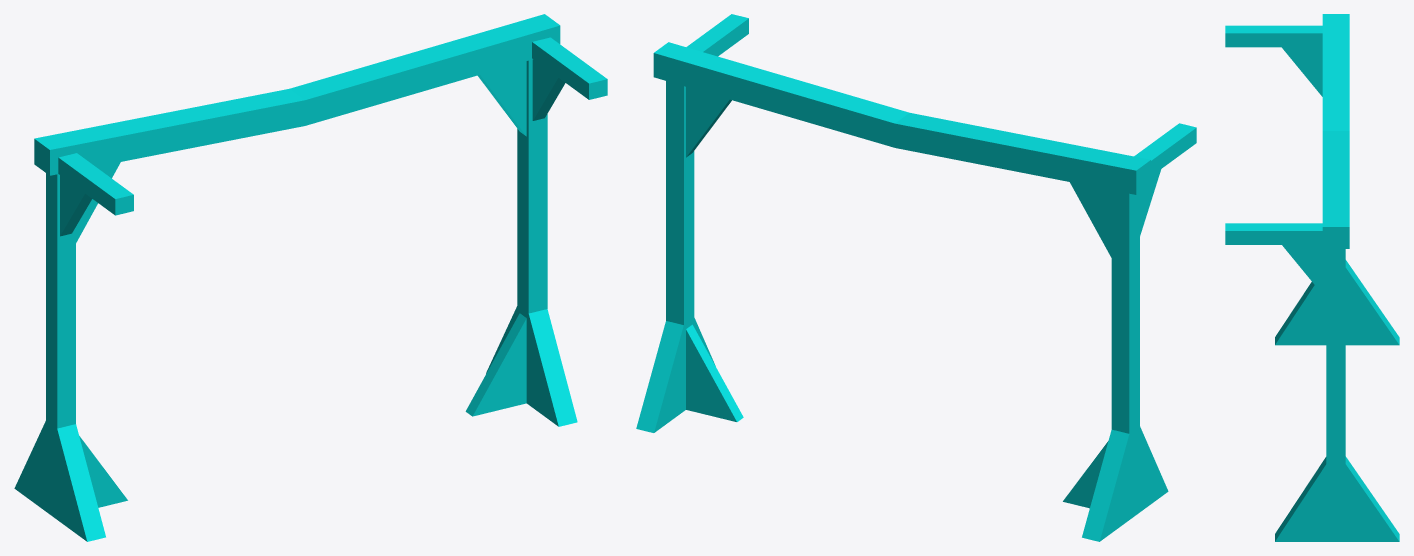
Rendered from SM_Prop_Gallows_01_Collision.fbx.
The picture shows the model from 3 angles, left to right: view 1: azimuth 30°, elevation 25°; view 2: azimuth 150°, elevation 25°; view 3: azimuth 270°, elevation 25°; orthographic projection. The views are drawn at different scales.
Parts seen in each view (by area): view 1: SM_Prop_Gallows_01_Collision; view 2: SM_Prop_Gallows_01_Collision; view 3: SM_Prop_Gallows_01_Collision.
Part boxes in pixels (x1,y1,x2,y2): SM_Prop_Gallows_01_Collision: (14,14,607,541); SM_Prop_Gallows_01_Collision: (636,14,1196,541); SM_Prop_Gallows_01_Collision: (1225,14,1399,541).
Bounding box in the file's own units: 612 × 428 × 212.
